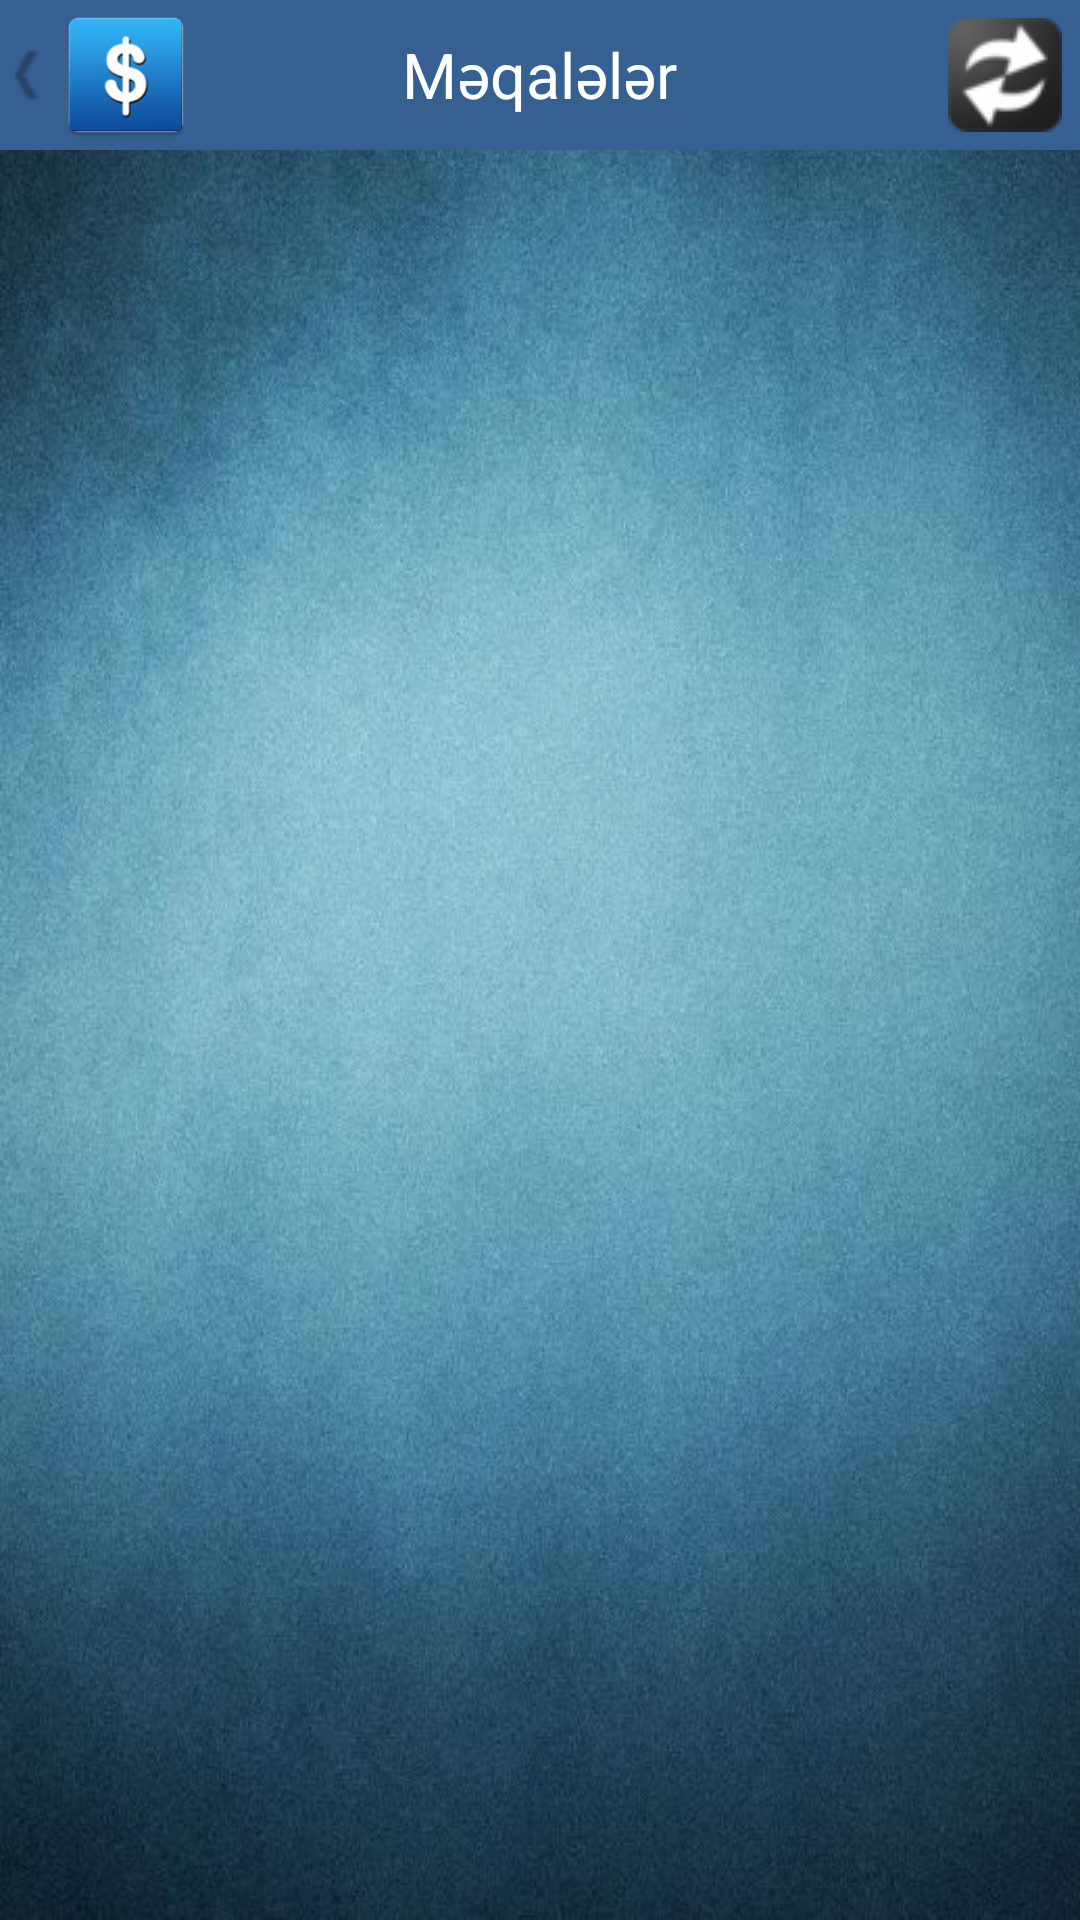

Named icons in this screenshot (1080w x 1920h) and their centers, point (x, y):
arrow: point (26, 75)
reload: point (1005, 75)
